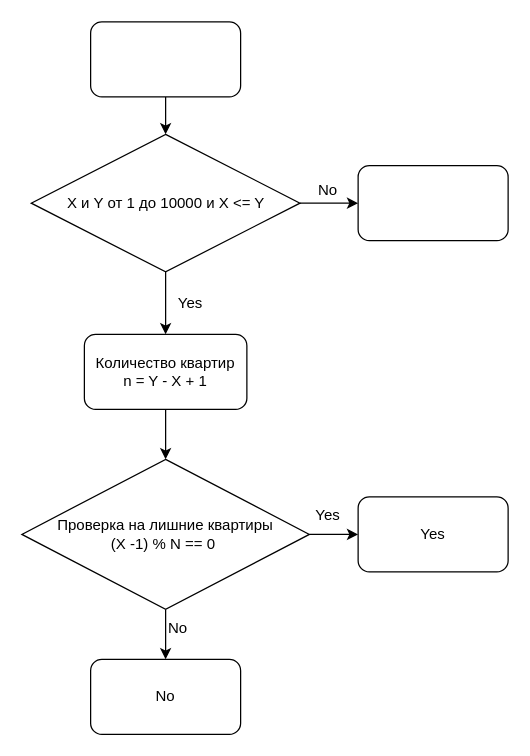
Image size: 530x756. Some labels were removed from this diagram. The shapes that lost their labels are listed below. From the top down, each one's centre as x and y in pixels, then its label:
the point at 165,59: Ввод данных X и Y
the point at 432,202: Ошибка
